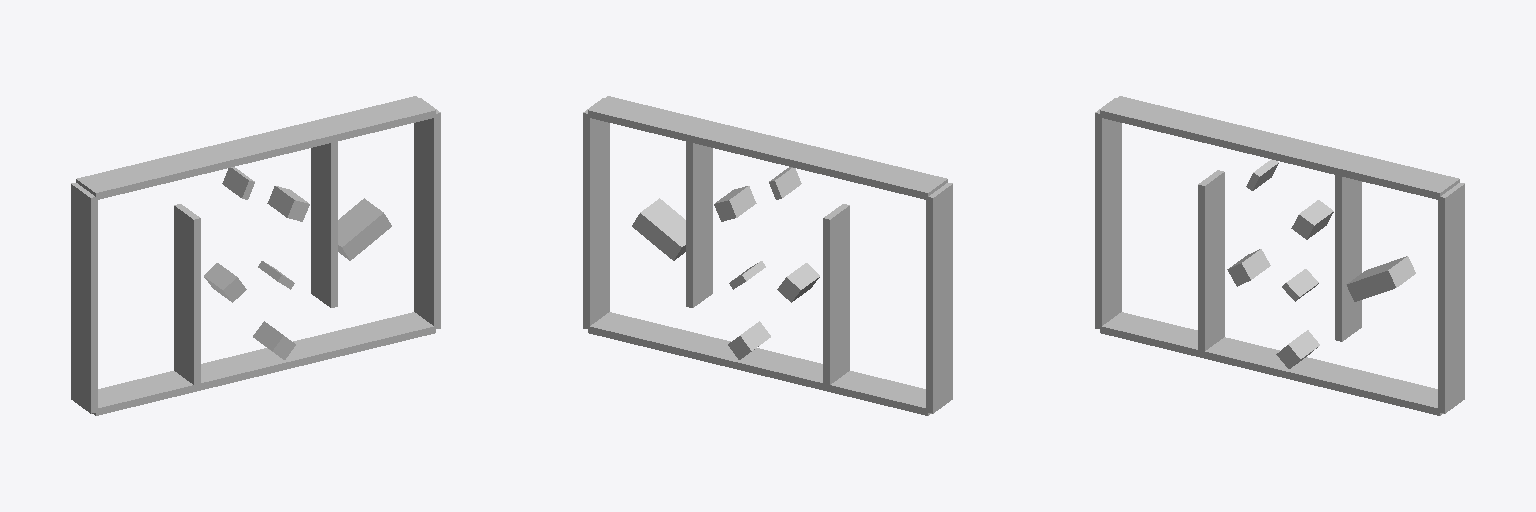
File: ddr_env1.obj
3 views of the same model, side by side, from view 1: azimuth 30°, elevation 25°; view 2: azimuth 150°, elevation 25°; view 3: azimuth 330°, elevation 25° (orthographic).
Visible parts, largest first — view 1: Cube_Cube.001, Cube.004_Cube.005, Cube.002_Cube.003, Cube.001_Cube.002, Cube.003_Cube.004, Cube.005_Cube.006, Cube.009, Cube.007, Cube.006_Cube, Cube.008, Cube.011; view 2: Cube_Cube.001, Cube.004_Cube.005, Cube.002_Cube.003, Cube.001_Cube.002, Cube.003_Cube.004, Cube.005_Cube.006, Cube.009, Cube.007, Cube.006_Cube, Cube.008, Cube.011; view 3: Cube_Cube.001, Cube.004_Cube.005, Cube.001_Cube.002, Cube.002_Cube.003, Cube.003_Cube.004, Cube.005_Cube.006, Cube.009, Cube.007, Cube.006_Cube, Cube.008, Cube.010.
Boxes of the visible parts, <box> form: Cube_Cube.001: <box>76,96,435,199</box>; Cube.004_Cube.005: <box>92,312,435,415</box>; Cube.002_Cube.003: <box>71,183,97,413</box>; Cube.001_Cube.002: <box>414,98,440,329</box>; Cube.003_Cube.004: <box>174,204,200,385</box>; Cube.005_Cube.006: <box>311,140,337,307</box>; Cube.009: <box>338,198,391,260</box>; Cube.007: <box>267,186,309,221</box>; Cube.006_Cube: <box>204,263,246,302</box>; Cube.008: <box>253,321,295,359</box>; Cube.011: <box>222,167,254,199</box>; Cube_Cube.001: <box>588,96,947,199</box>; Cube.004_Cube.005: <box>588,312,931,415</box>; Cube.002_Cube.003: <box>926,183,952,413</box>; Cube.001_Cube.002: <box>583,98,609,329</box>; Cube.003_Cube.004: <box>823,204,849,386</box>; Cube.005_Cube.006: <box>686,140,712,307</box>; Cube.009: <box>632,198,685,260</box>; Cube.007: <box>714,186,756,221</box>; Cube.006_Cube: <box>777,263,819,302</box>; Cube.008: <box>728,321,770,359</box>; Cube.011: <box>769,167,801,199</box>; Cube_Cube.001: <box>1100,96,1459,199</box>; Cube.004_Cube.005: <box>1100,312,1443,415</box>; Cube.001_Cube.002: <box>1438,183,1464,413</box>; Cube.002_Cube.003: <box>1095,98,1121,329</box>; Cube.003_Cube.004: <box>1198,170,1224,352</box>; Cube.005_Cube.006: <box>1335,175,1361,341</box>; Cube.009: <box>1346,256,1415,301</box>; Cube.007: <box>1291,200,1333,239</box>; Cube.006_Cube: <box>1227,249,1270,286</box>; Cube.008: <box>1276,330,1319,368</box>; Cube.010: <box>1282,269,1318,301</box>.
Bounding box in the file's own units: 10.2 × 6.2 × 1.